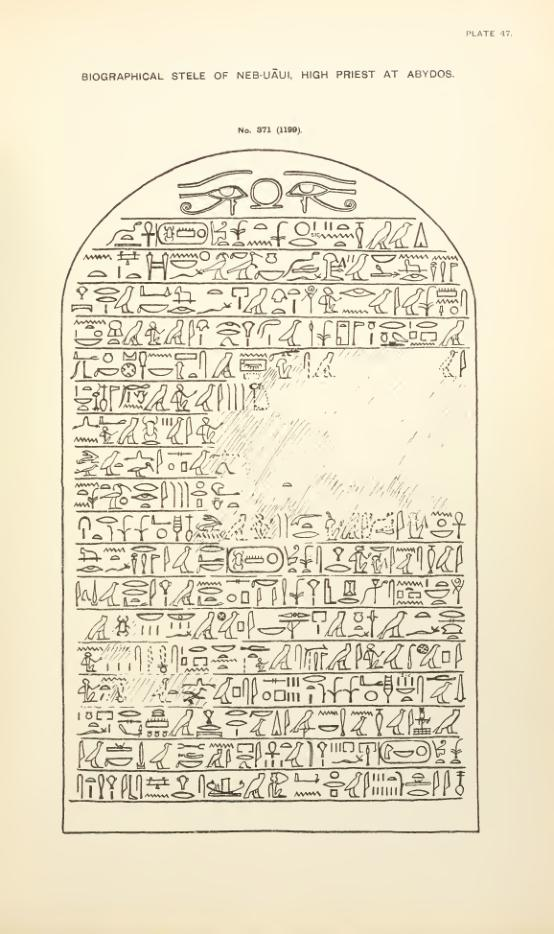circle: (224, 543, 284, 573), (376, 739, 433, 766), (154, 220, 210, 246)
